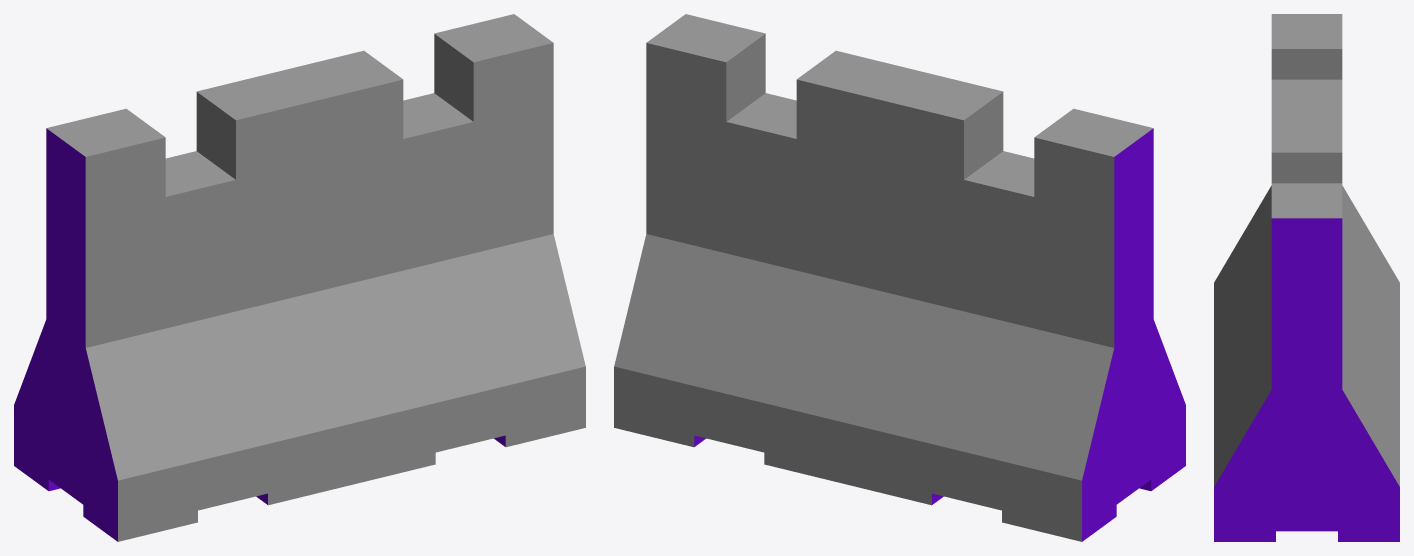
Rendered from Barricade_Concrete_02.fbx.
The picture shows the model from 3 angles, left to right: view 1: azimuth 30°, elevation 25°; view 2: azimuth 150°, elevation 25°; view 3: azimuth 270°, elevation 25°; orthographic projection. The views are drawn at different scales.
Parts seen in each view (by area): view 1: Obstacle_Barricade_Concrete_02; view 2: Obstacle_Barricade_Concrete_02; view 3: Obstacle_Barricade_Concrete_02.
Part boxes in pixels (x1=…): Obstacle_Barricade_Concrete_02: x1=14, y1=14, x2=585, y2=541; Obstacle_Barricade_Concrete_02: x1=614, y1=14, x2=1185, y2=541; Obstacle_Barricade_Concrete_02: x1=1214, y1=14, x2=1399, y2=541.
Size of the model in its own units: 89.9 by 66.35 by 34.54.
Materials: 1 (1 with a texture image).
